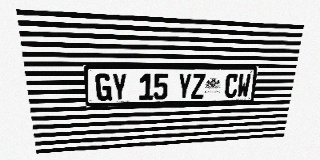1: (139, 73, 154, 100)
5: (154, 73, 168, 100)
C: (224, 73, 239, 98)
G: (95, 73, 112, 101)
W: (236, 73, 251, 98)
Y: (111, 73, 127, 101), (177, 73, 192, 99)
Z: (191, 73, 206, 99)
